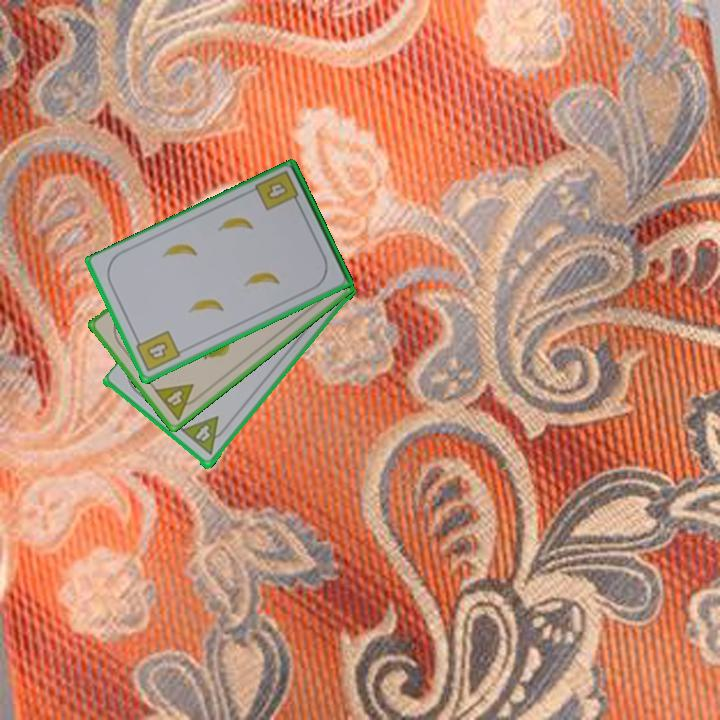4b: (131, 327, 183, 375), (252, 167, 303, 212)
4p: (178, 413, 231, 458), (150, 380, 205, 423)
